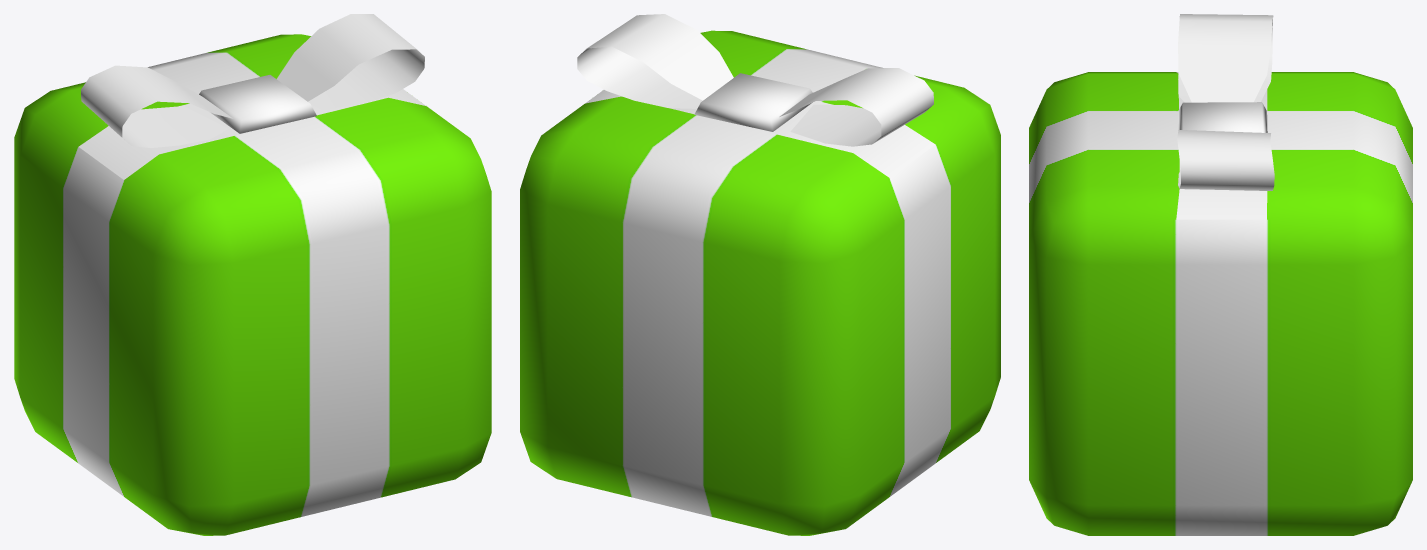
The model's file is green_gift.glb.
3 views of the same model, side by side, from view 1: azimuth 30°, elevation 25°; view 2: azimuth 150°, elevation 25°; view 3: azimuth 270°, elevation 25° (orthographic).
Visible parts, largest first — view 1: Green_Gift; view 2: Green_Gift; view 3: Green_Gift.
Part boxes in pixels (left/top/right/bottom): Green_Gift: left=14, top=14, right=491, bottom=535; Green_Gift: left=520, top=14, right=1000, bottom=535; Green_Gift: left=1029, top=14, right=1412, bottom=535.
Bounding box in the file's own units: 0.4562 × 0.5279 × 0.4562.
1 material, 1 textured.
